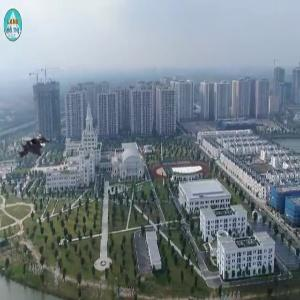drone: (9, 122, 59, 172)
